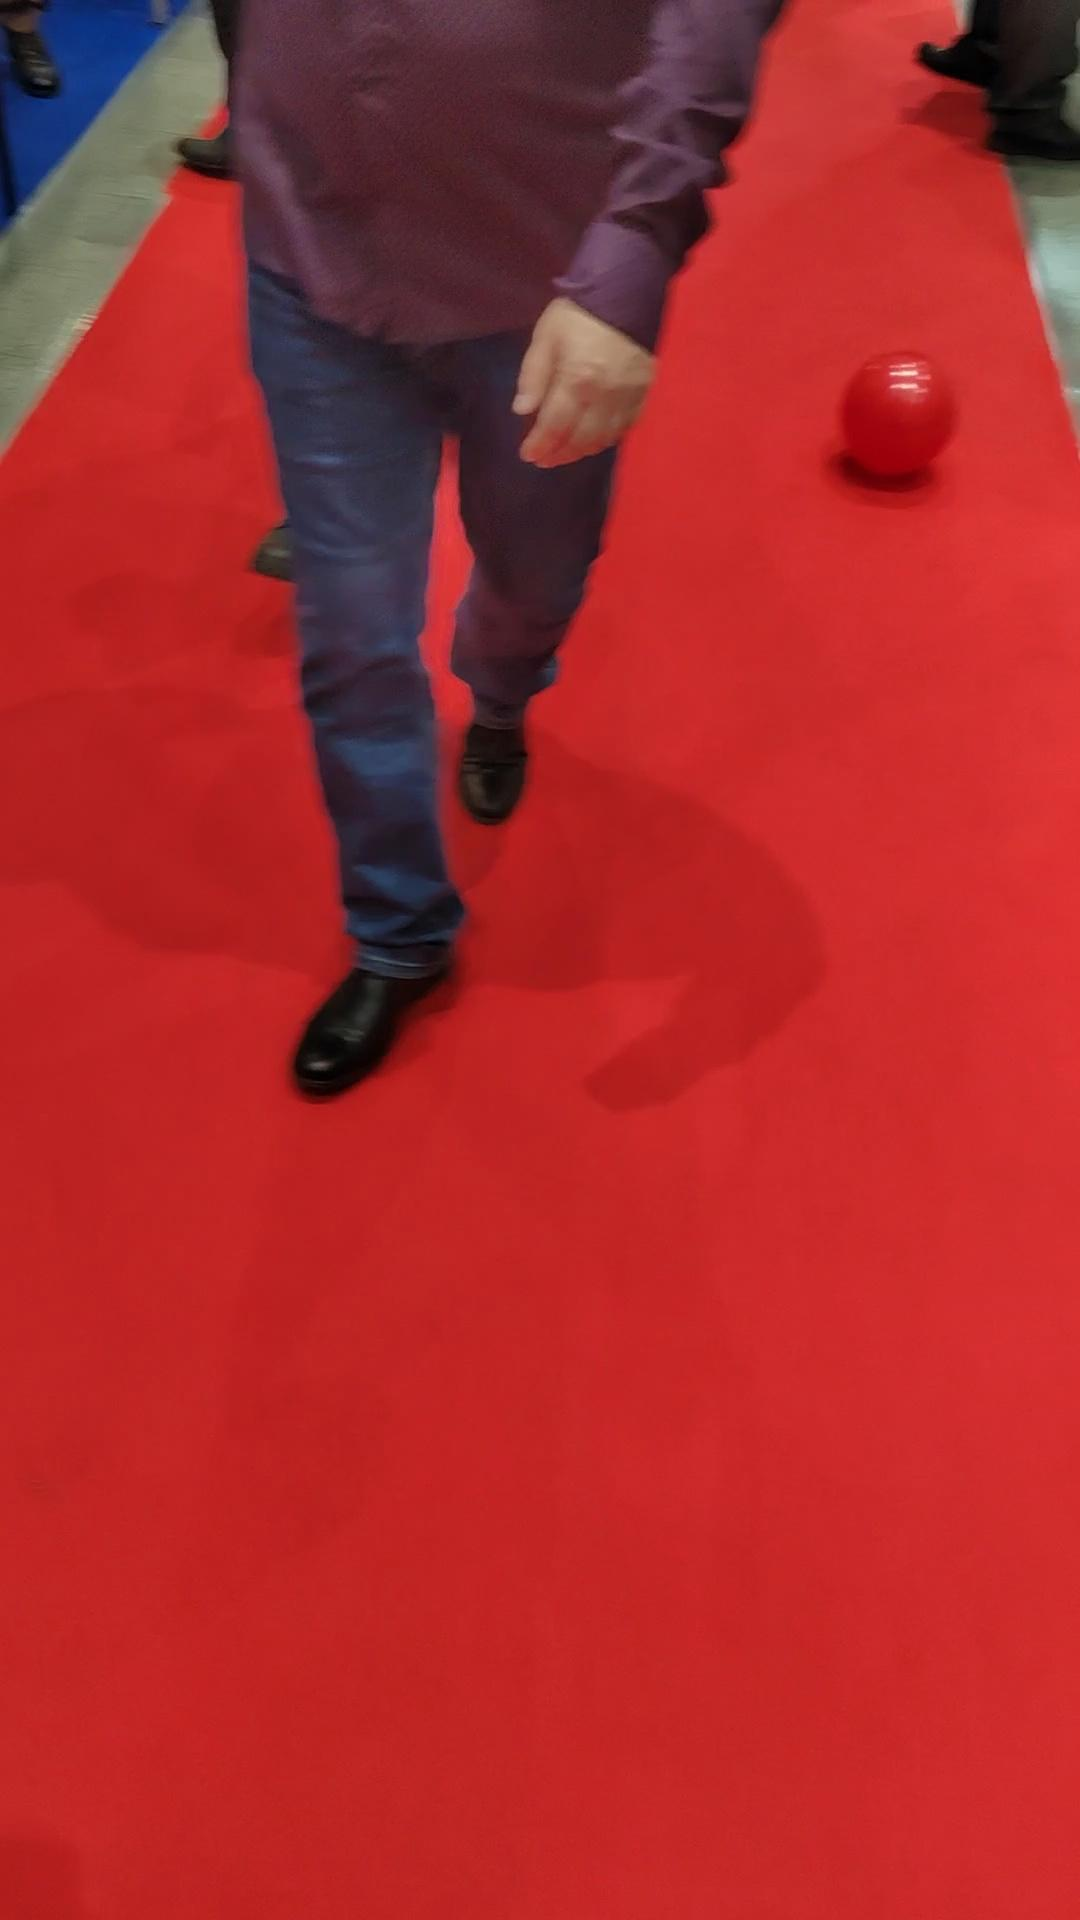red: (839, 349, 957, 479)
